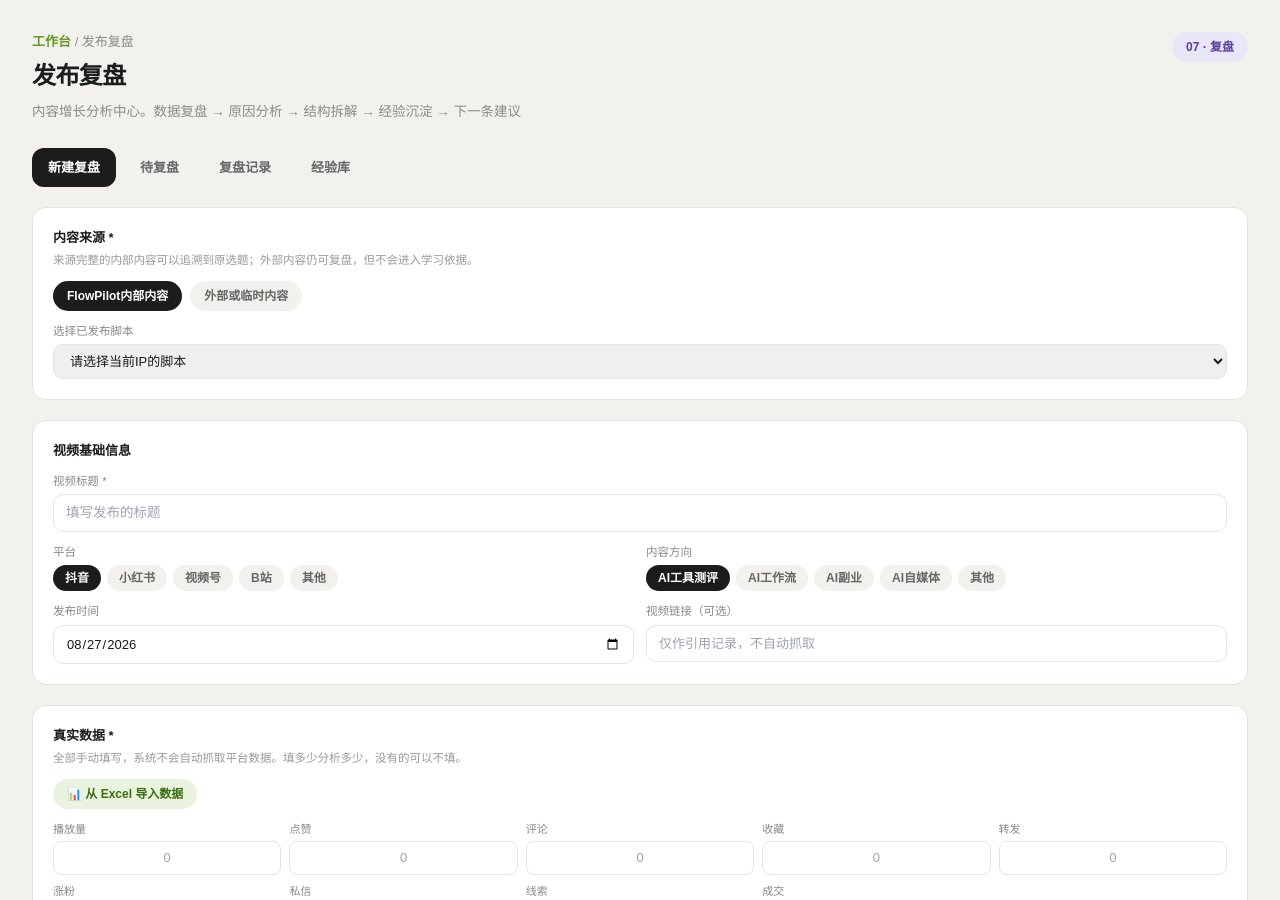
it: 知识关联真实存在但状态同步持续失败时页面展示部分完成
Click the button "复盘记录": (245, 167) [203,148,287,187]
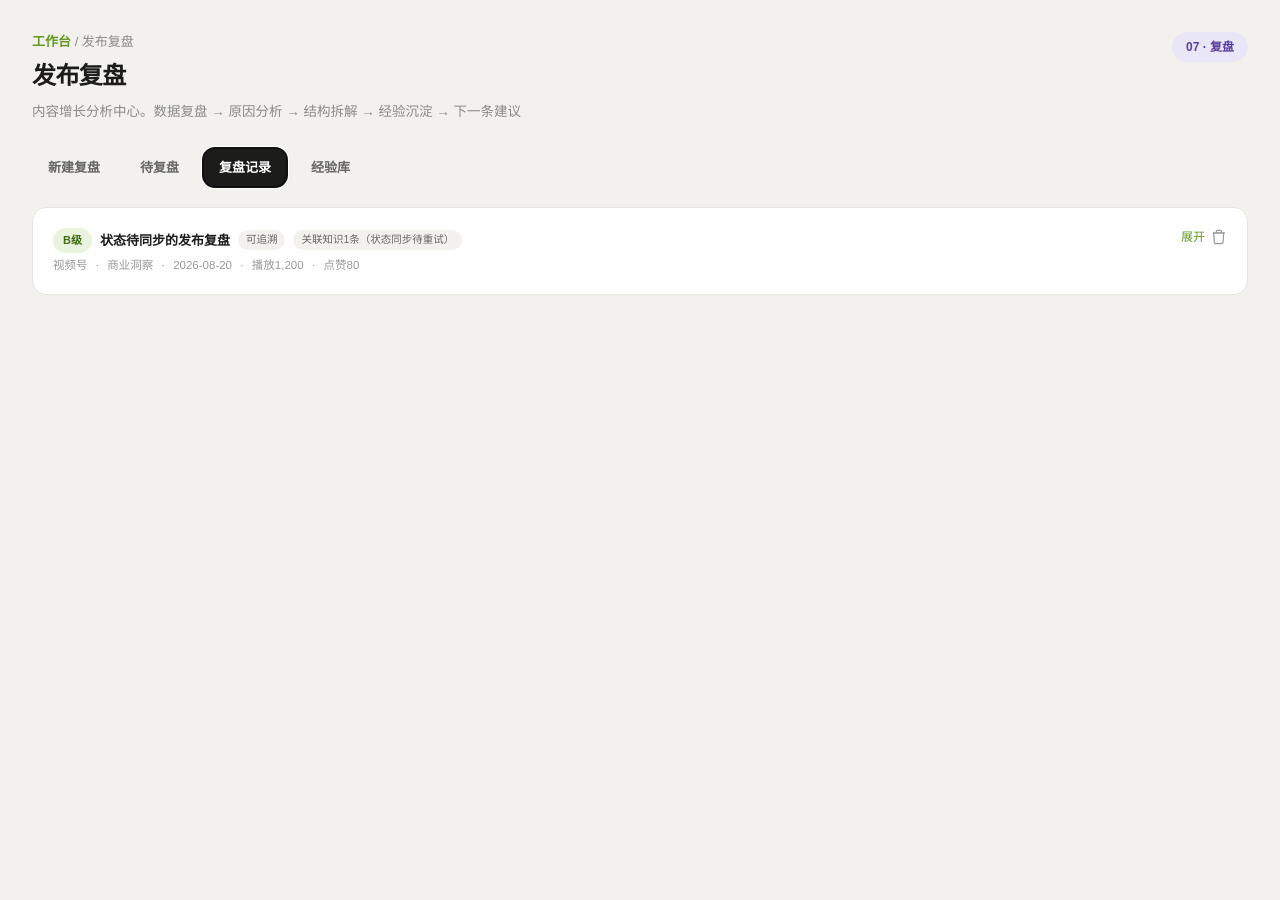
Expected: the text "关联知识1条（状态同步待重试）" is shown, [294,230,462,250]
